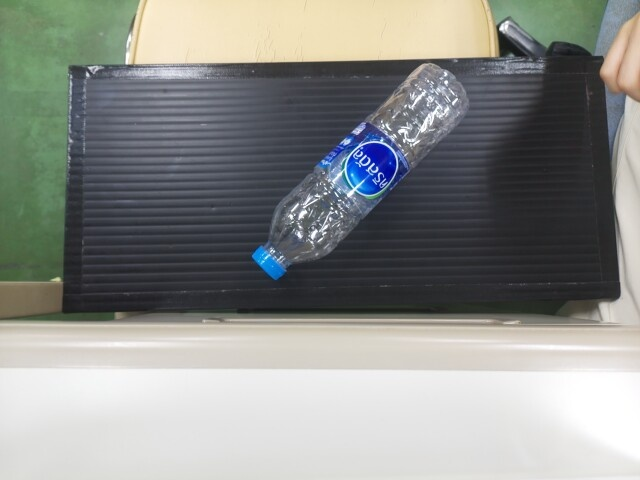plastic_bottle: (260, 66, 433, 278)
